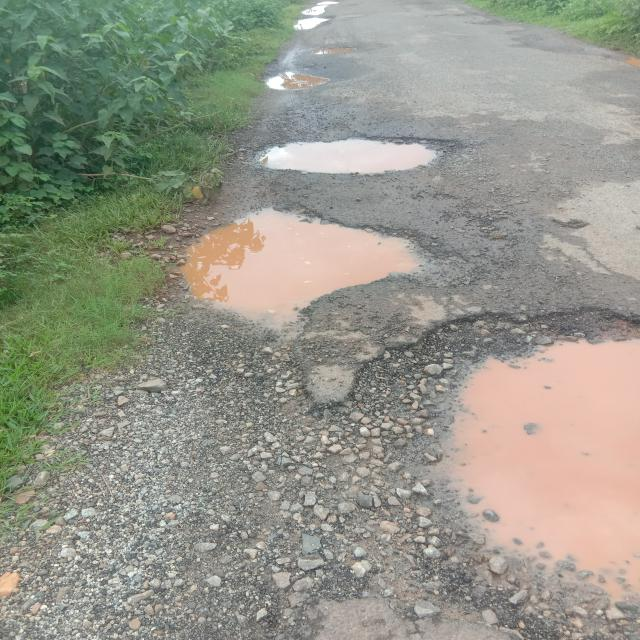potholes: (375, 308, 640, 640), (152, 202, 445, 340), (232, 136, 464, 181), (266, 65, 327, 96), (282, 0, 337, 32), (299, 41, 357, 58)
